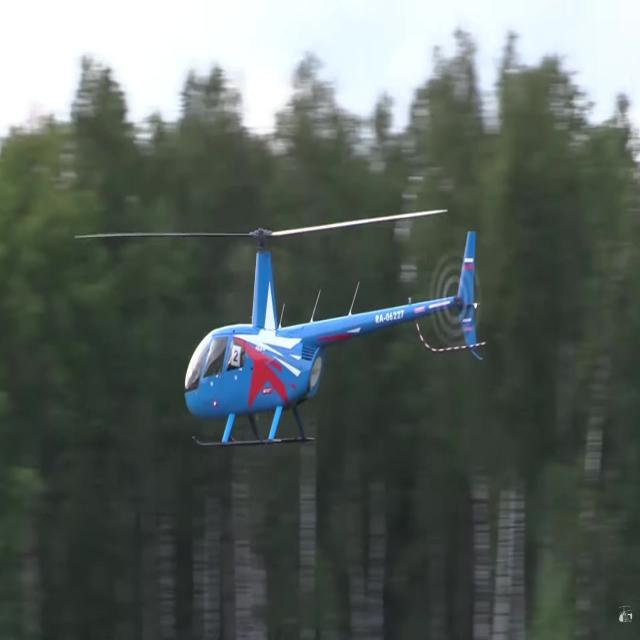CIV_HELO: (182, 223, 488, 450)
